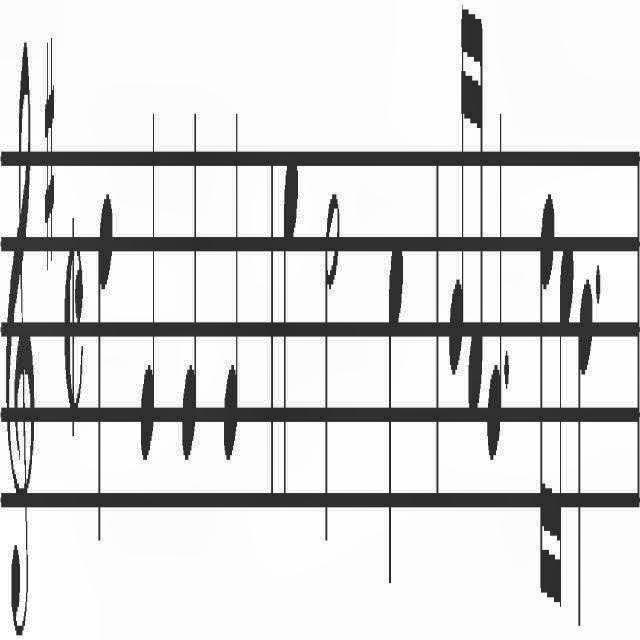Bass-clef: (4, 14, 36, 640)
Diez: (40, 32, 60, 290)
Half-note: (323, 158, 341, 554)
Quarter-note: (214, 75, 242, 481), (385, 196, 411, 592), (278, 111, 302, 525), (137, 76, 159, 477), (176, 97, 200, 459), (94, 172, 114, 600), (485, 86, 503, 472), (576, 254, 594, 626)
Sixteenth-note: (535, 146, 555, 630), (465, 0, 487, 426), (557, 170, 575, 640), (448, 0, 468, 398)
